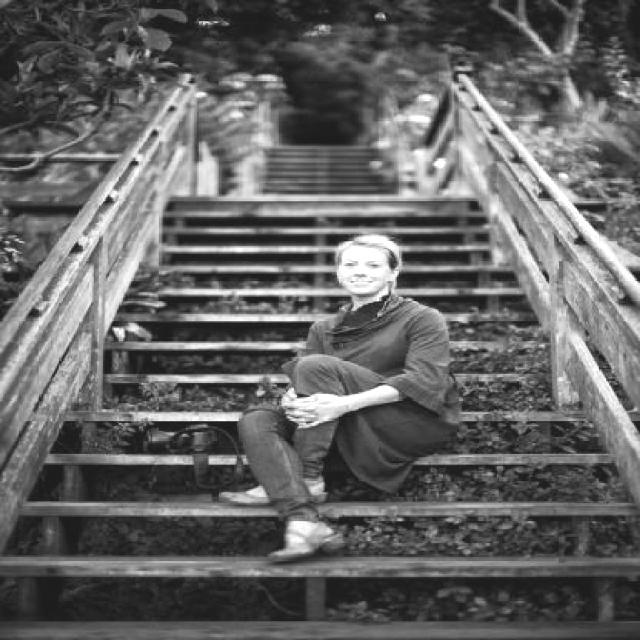stair: (0, 194, 640, 640), (262, 142, 408, 196)
